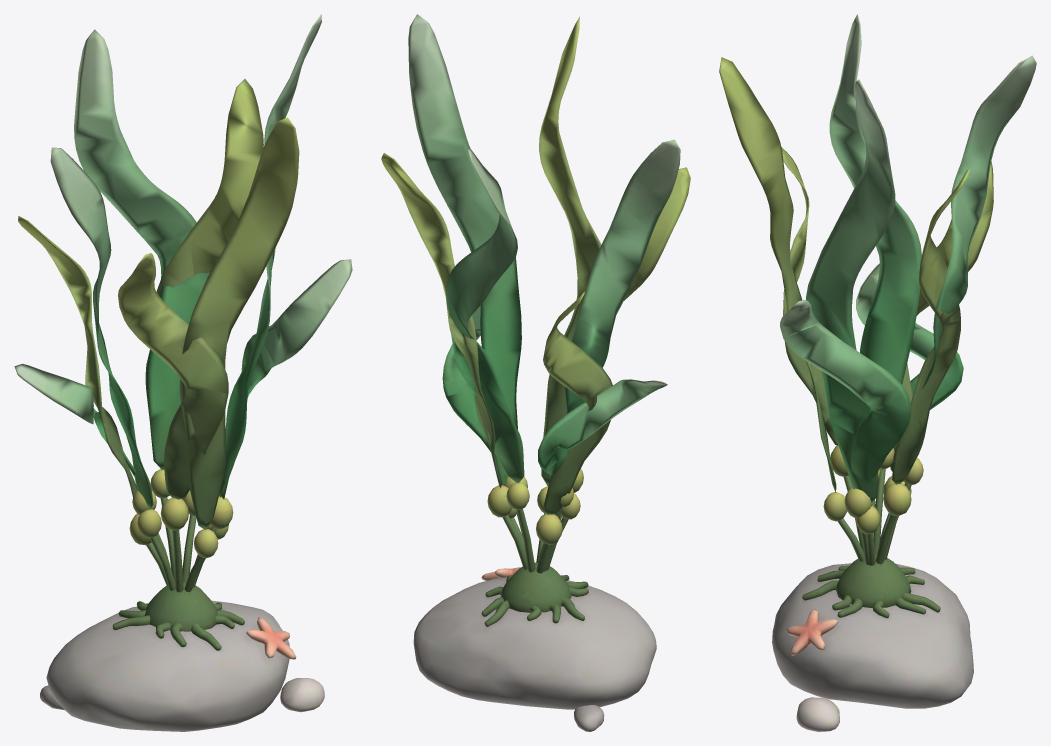
File: kelp.glb
3 views of the same model, side by side, from view 1: azimuth 30°, elevation 25°; view 2: azimuth 150°, elevation 25°; view 3: azimuth 270°, elevation 25° (orthographic). The views are drawn at different scales.
Parts seen in each view (by area): view 1: seaweed_body; view 2: seaweed_body; view 3: seaweed_body.
Boxes of the visible parts, x1=… form: seaweed_body: x1=14, y1=14, x2=352, y2=731; seaweed_body: x1=381, y1=14, x2=690, y2=731; seaweed_body: x1=719, y1=14, x2=1036, y2=731.
Bounding box in the file's own units: 0.5407 × 1.2 × 0.5174.
Materials: 1 (1 with a texture image).
